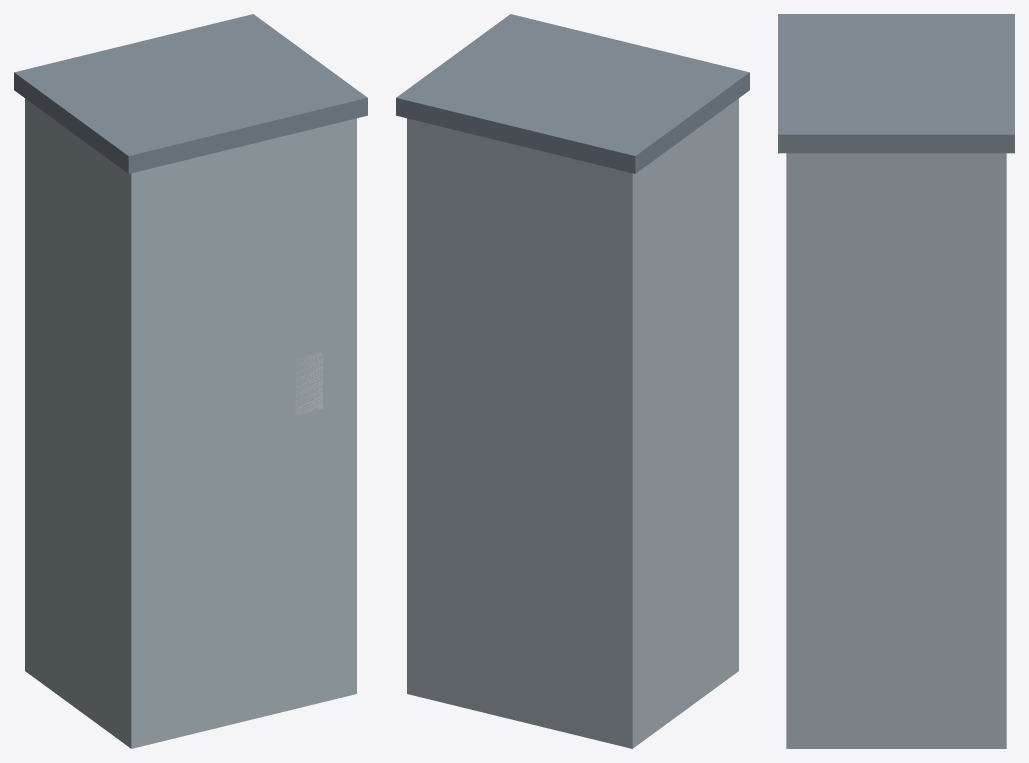
Rendered from locker_metal.gltf.
3 renders of one model, left to right at view 1: azimuth 30°, elevation 25°; view 2: azimuth 150°, elevation 25°; view 3: azimuth 270°, elevation 25°, orthographic. The views are drawn at different scales.
Size of the model in its own units: 0.7 by 1.67 by 0.58.
